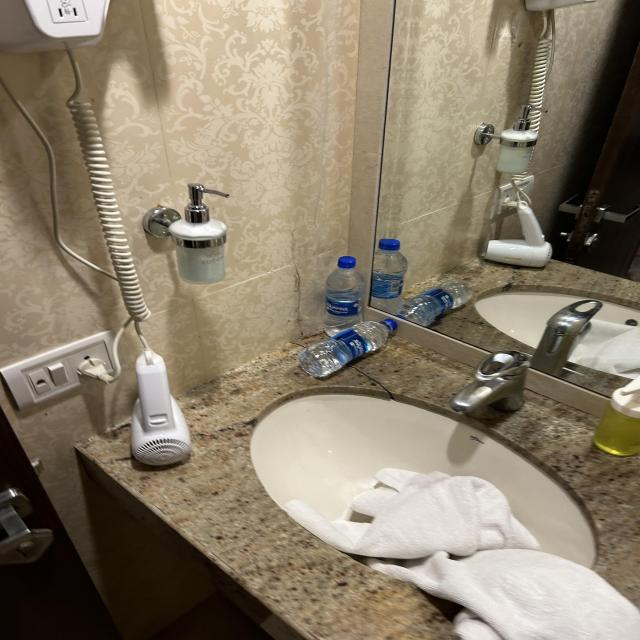mess: (29, 339, 640, 640)
